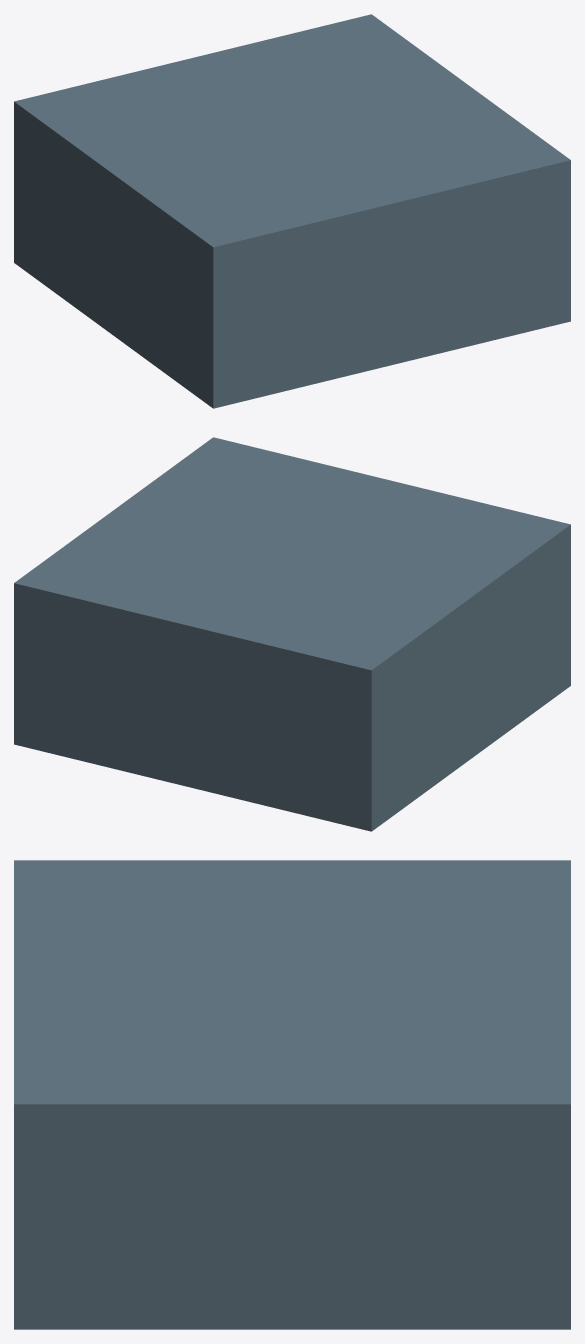
The model's file is Helmet_Guard_1.glb.
3 renders of one model, top to bottom at view 1: azimuth 30°, elevation 25°; view 2: azimuth 150°, elevation 25°; view 3: azimuth 270°, elevation 25°, orthographic. The views are drawn at different scales.
Bounding box in the file's own units: 0.58 × 0.25 × 0.56.
